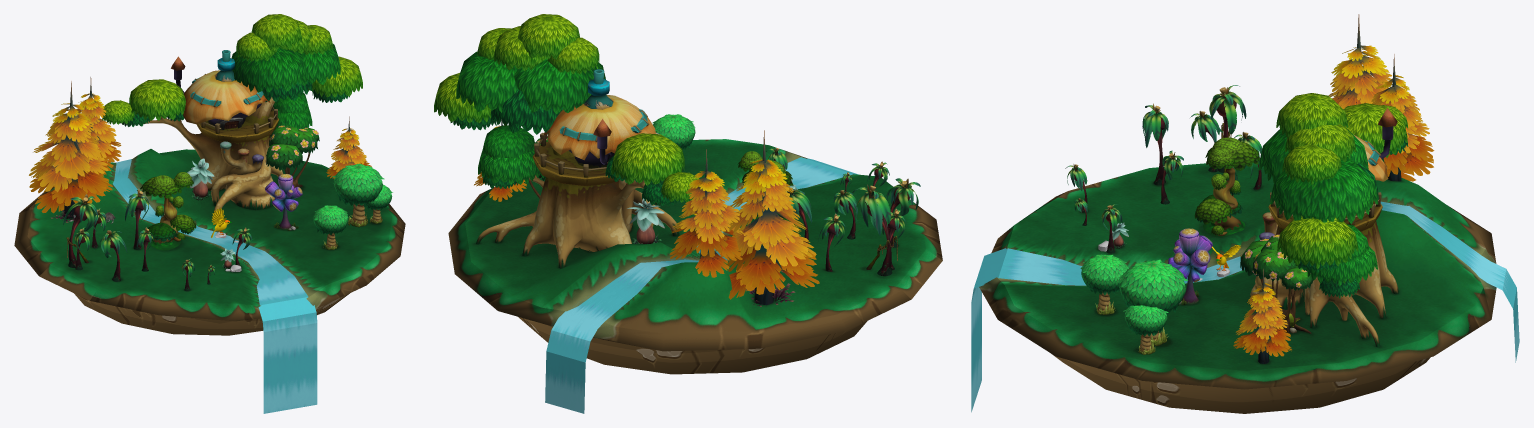
3 renders of one model, left to right at view 1: azimuth 30°, elevation 25°; view 2: azimuth 150°, elevation 25°; view 3: azimuth 270°, elevation 25°, orthographic. The views are drawn at different scales.
Parts seen in each view (by area): view 1: Line095, Object001, Object003, Cylinder002, Line054, Line002, Cylinder005, Cylinder001, Cylinder008, Line092, Cylinder009, Cylinder007 (+5 smaller); view 2: Line095, Object001, Cylinder002, Object003, Line054, Cylinder008, Line001, Cylinder007, Line005, Line091, Line002, Line096 (+3 smaller); view 3: Line095, Object001, Object003, Line002, Cylinder008, Cylinder005, Cylinder009, Cylinder002, Cylinder001, Line054, Line092, Cylinder007 (+5 smaller).
Part boxes in pixels (<box>): Line095: <box>14,149,405,335</box>; Object001: <box>102,14,362,212</box>; Object003: <box>113,159,317,413</box>; Cylinder002: <box>29,81,112,222</box>; Line054: <box>171,50,279,142</box>; Line002: <box>140,172,196,250</box>; Cylinder005: <box>332,163,384,227</box>; Cylinder001: <box>265,125,319,187</box>; Cylinder008: <box>75,77,121,174</box>; Line092: <box>265,174,302,230</box>; Cylinder009: <box>326,116,371,178</box>; Cylinder007: <box>313,205,348,249</box>; Line095: <box>448,139,942,374</box>; Object001: <box>434,14,699,268</box>; Cylinder002: <box>715,130,819,306</box>; Object003: <box>545,157,858,413</box>; Line054: <box>532,69,655,186</box>; Cylinder008: <box>669,149,743,277</box>; Line001: <box>852,184,897,276</box>; Cylinder007: <box>652,114,695,150</box>; Line005: <box>627,198,664,243</box>; Line091: <box>886,178,920,247</box>; Line002: <box>737,151,800,233</box>; Line096: <box>778,187,812,247</box>; Line095: <box>979,163,1496,413</box>; Object001: <box>1250,93,1408,347</box>; Object003: <box>971,201,1519,412</box>; Line002: <box>1194,137,1259,236</box>; Cylinder008: <box>1371,54,1434,181</box>; Cylinder005: <box>1116,259,1187,346</box>; Cylinder009: <box>1233,269,1291,363</box>; Cylinder002: <box>1328,14,1415,181</box>; Cylinder001: <box>1240,234,1312,333</box>; Line054: <box>1268,108,1397,231</box>; Line092: <box>1168,228,1212,305</box>; Cylinder007: <box>1080,254,1128,314</box>.
Bounding box in the file's own units: 10.19 × 7.67 × 10.22.
22 materials, 11 textured.
